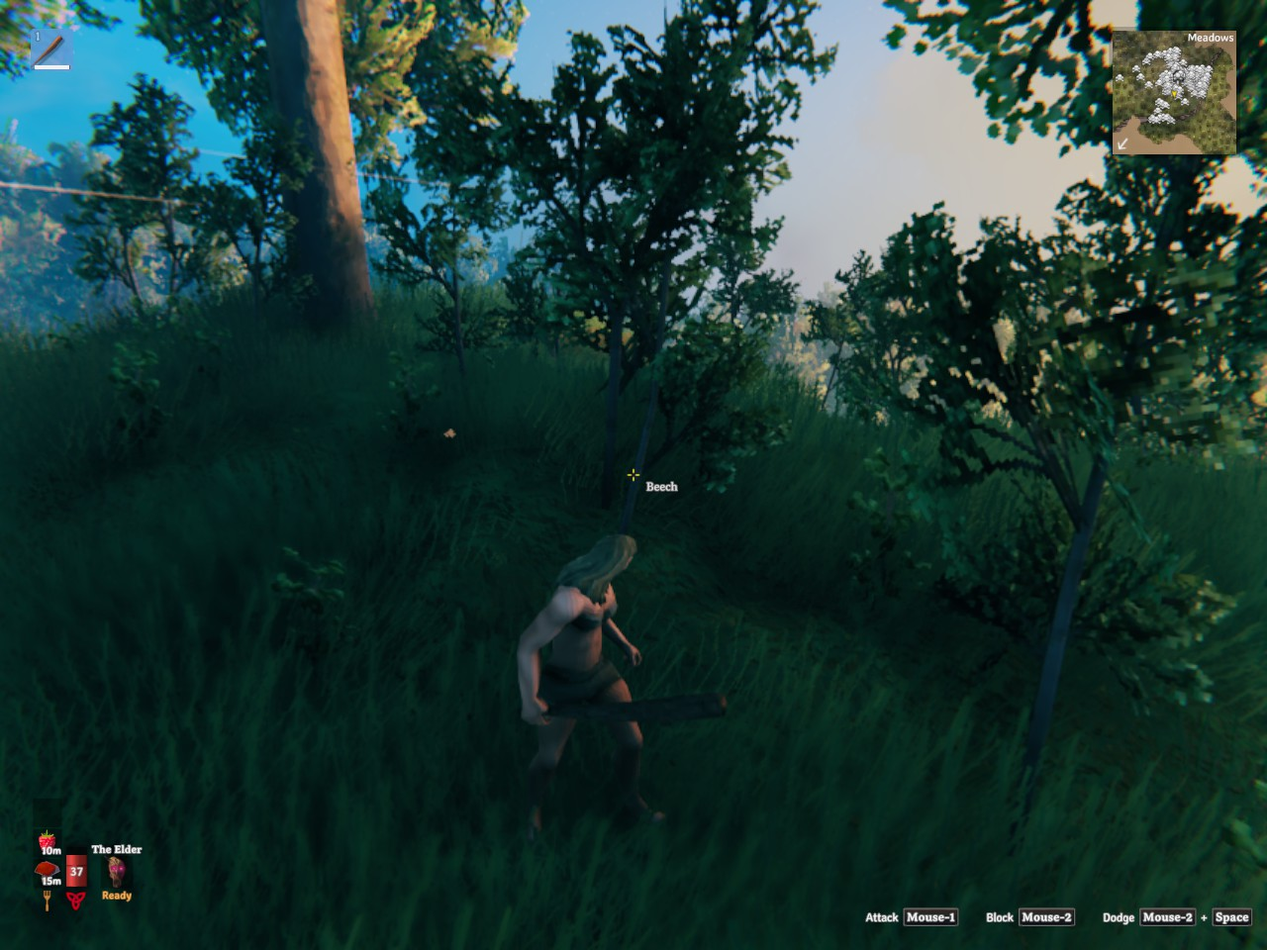Club: (547, 693, 726, 722)
Food Indicator: (39, 831, 60, 853), (35, 861, 59, 877)
Health Bar: (66, 851, 88, 908)
Hotbar: (26, 26, 72, 70)
